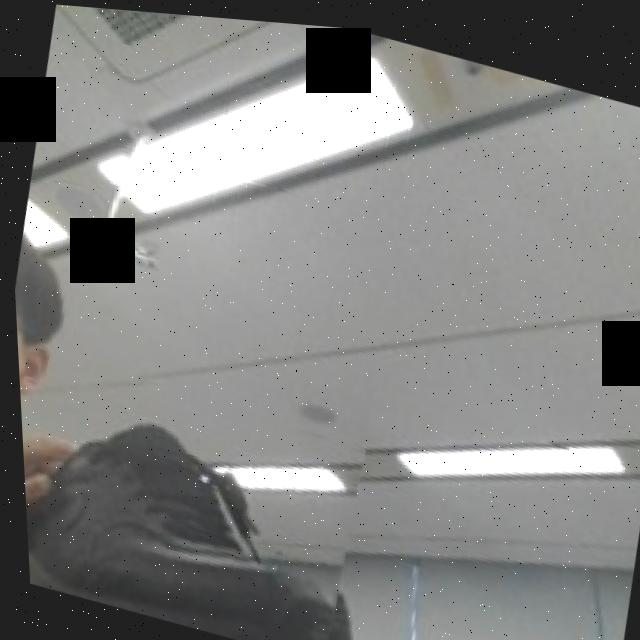shoe: (14, 341, 373, 640)
